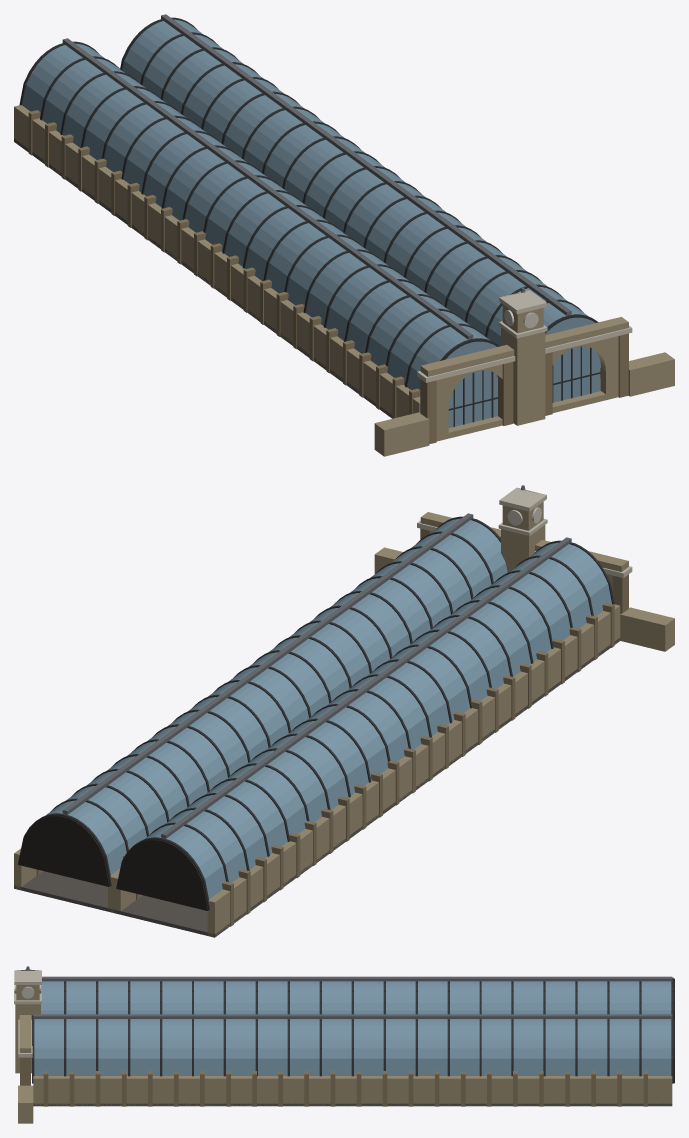
Rendered from kings_cross.glb.
3 views of the same model, one above another, from view 1: azimuth 30°, elevation 25°; view 2: azimuth 150°, elevation 25°; view 3: azimuth 270°, elevation 25° (orthographic). The views are drawn at different scales.
Parts seen in each view (by area): view 1: kings_cross; view 2: kings_cross; view 3: kings_cross.
Part boxes in pixels (left/top/right/bottom): kings_cross: left=14, top=14, right=674, bottom=456; kings_cross: left=14, top=485, right=674, bottom=937; kings_cross: left=14, top=966, right=674, bottom=1123.
Size of the model in its own units: 104 by 43.6 by 258.
